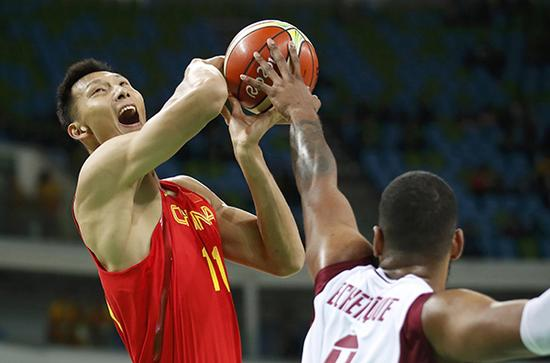face: (83, 69, 148, 146)
